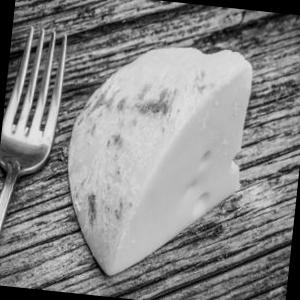cheese: (52, 34, 261, 278)
